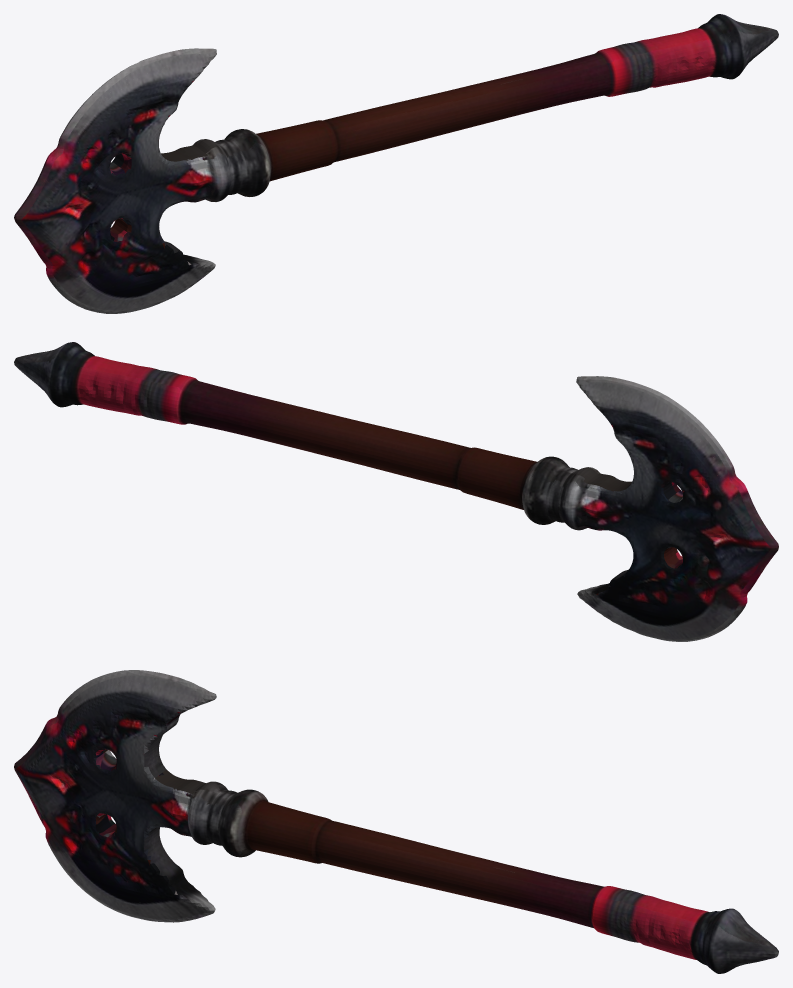
File: rhex_axe.glb
3 renders of one model, top to bottom at view 1: azimuth 30°, elevation 25°; view 2: azimuth 150°, elevation 25°; view 3: azimuth 330°, elevation 25°, orthographic.
Parts seen in each view (by area): view 1: tmp5fhaiqlh.ply; view 2: tmp5fhaiqlh.ply; view 3: tmp5fhaiqlh.ply.
Boxes of the visible parts, x1=… form: tmp5fhaiqlh.ply: x1=14, y1=14, x2=778, y2=313; tmp5fhaiqlh.ply: x1=14, y1=342, x2=778, y2=641; tmp5fhaiqlh.ply: x1=14, y1=670, x2=778, y2=973.
Bounding box in the file's own units: 1.99 × 0.6239 × 0.1612.
1 material, 1 textured.
